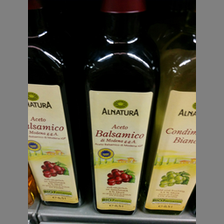vinegar: (88, 1, 160, 219), (28, 2, 91, 209), (141, 16, 196, 213)
